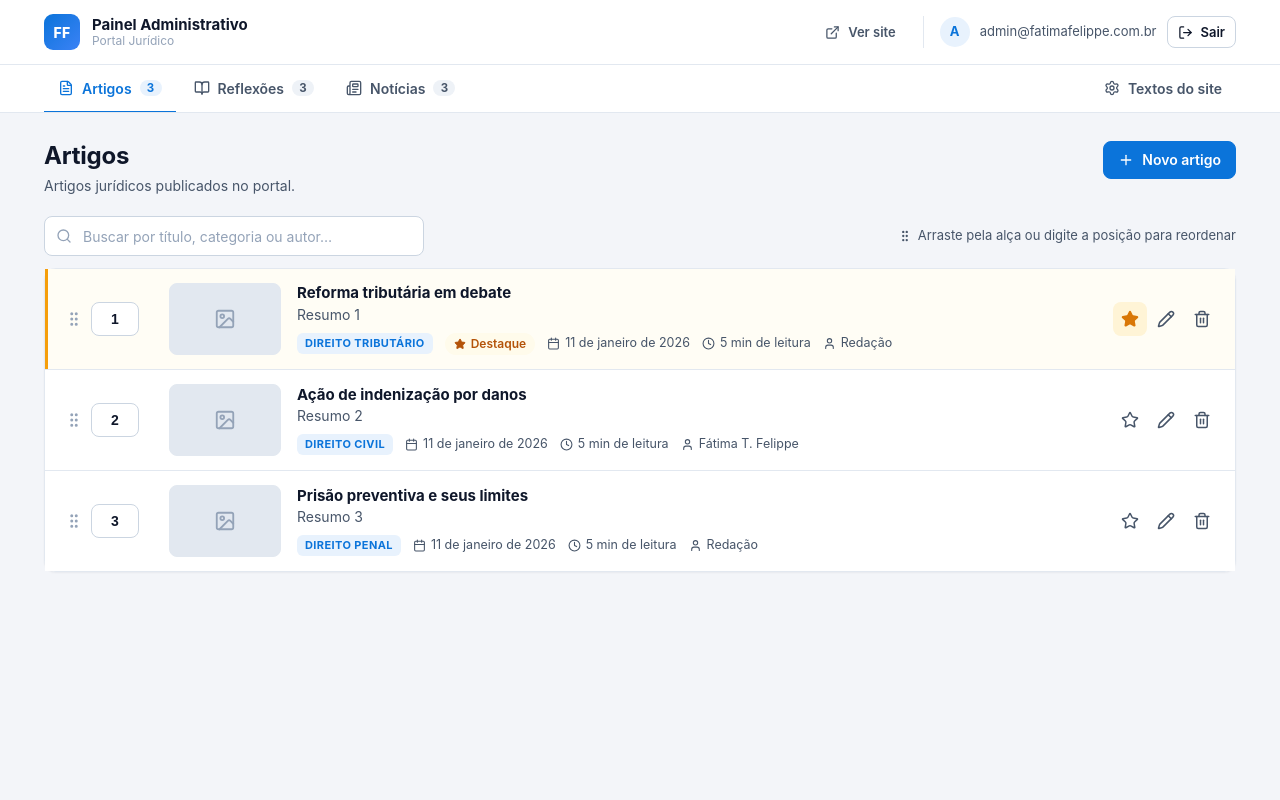
AdminPage › destaque › erro ao gravar o destaque avisa o usuário
Expected: the heading "Reforma tributária em debate" is shown, [297, 283, 511, 302]
Expected: the text "admin@fatimafelippe.com.br" is shown, [980, 22, 1156, 42]
Click the button named "Destacar \"Prisão preventiva e seus limites\"" at (1130, 521), box [1113, 504, 1147, 538]
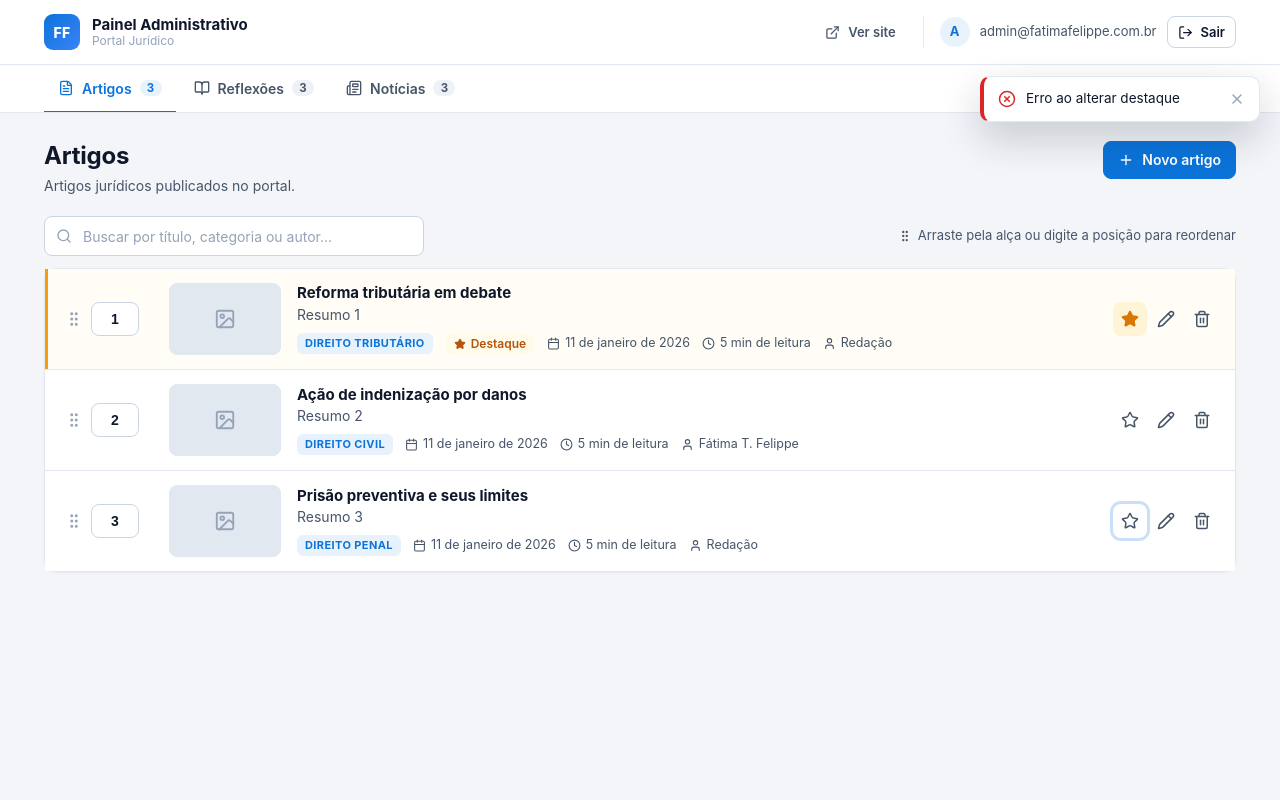
Now the text "Erro ao alterar destaque" is shown, box [1026, 90, 1180, 106]
